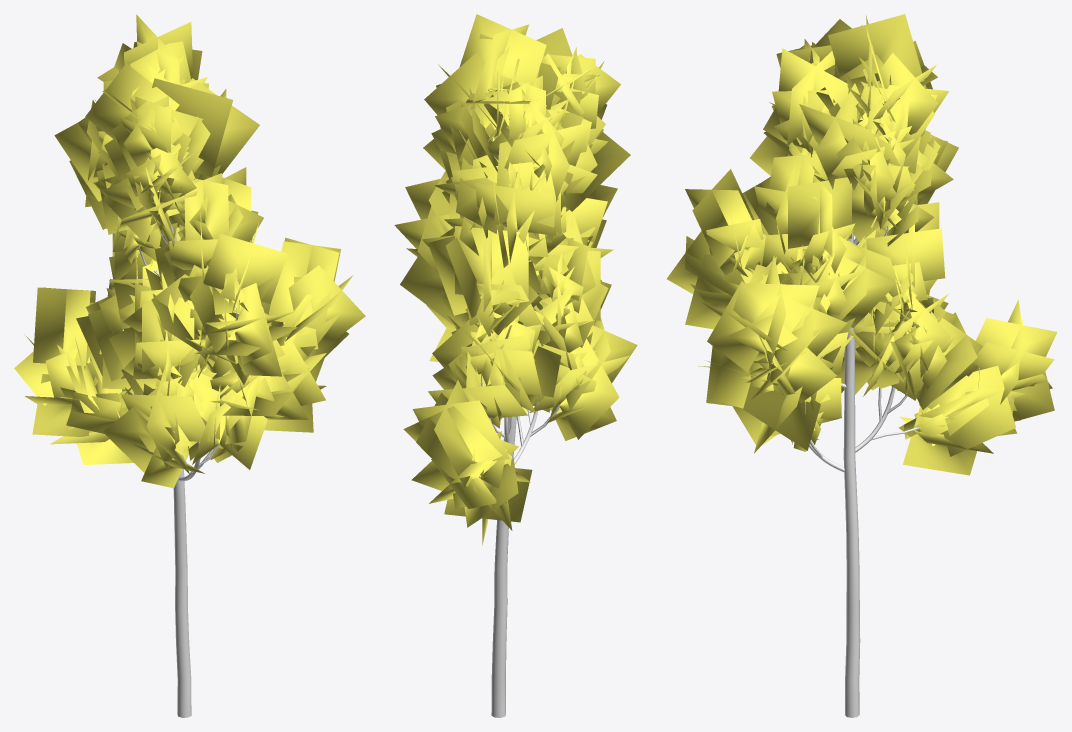
File: aspen_small_v1_lod0.glb
3 renders of one model, left to right at view 1: azimuth 30°, elevation 25°; view 2: azimuth 150°, elevation 25°; view 3: azimuth 270°, elevation 25°, orthographic. The views are drawn at different scales.
Visible parts, largest first — view 1: Leaves, Branches; view 2: Leaves, Branches; view 3: Leaves, Branches.
Part boxes in pixels (x1,y1,x2,y2): Leaves: (14,14,365,488); Branches: (134,221,237,717); Leaves: (394,14,637,545); Branches: (479,230,559,717); Leaves: (667,14,1057,475); Branches: (769,226,920,717).
Bounding box in the file's own units: 12.98 × 38.06 × 19.55.
